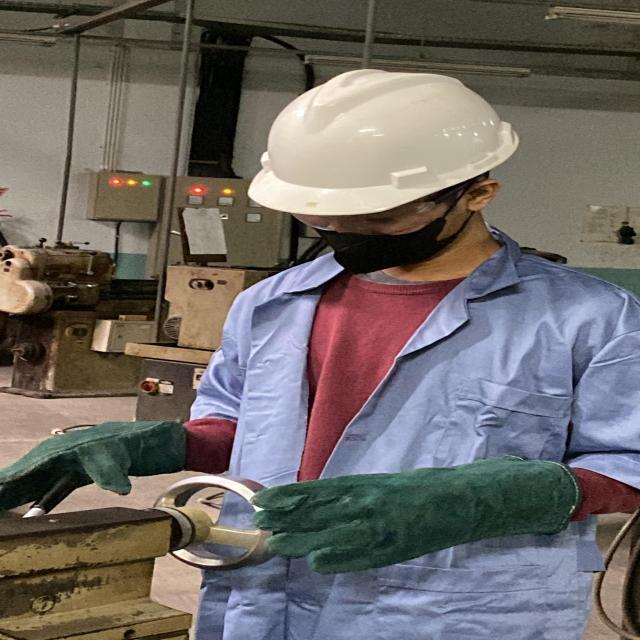gloves: (249, 462, 457, 574), (0, 418, 150, 516)
helmet: (240, 67, 520, 215)
